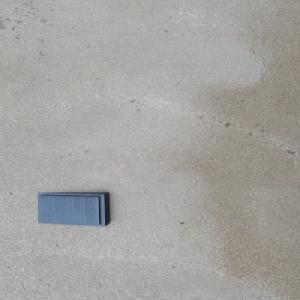PlasticPart: (37, 191, 112, 226)
